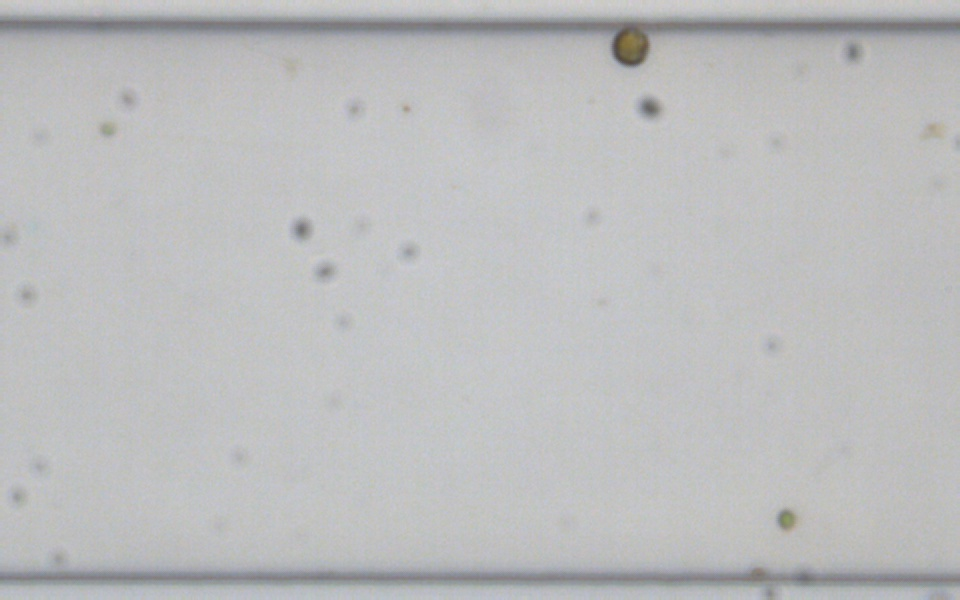Chlorella: (776, 508, 797, 530)
Effrenium: (607, 26, 653, 68)
